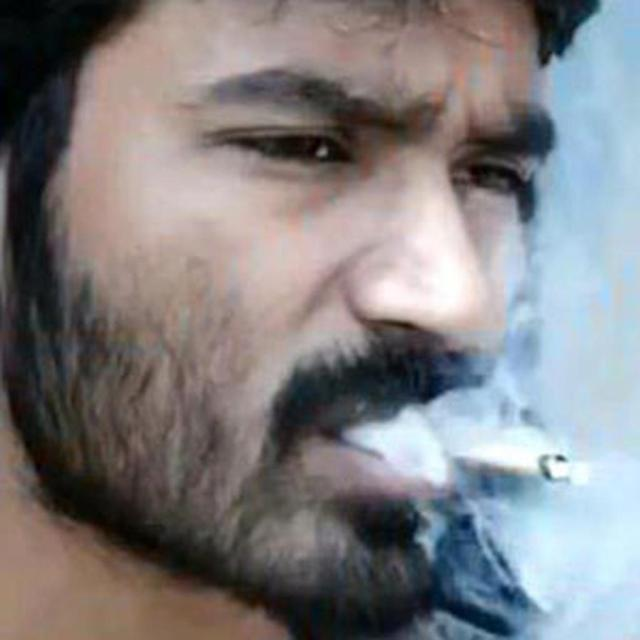smoking: (21, 0, 587, 555)
